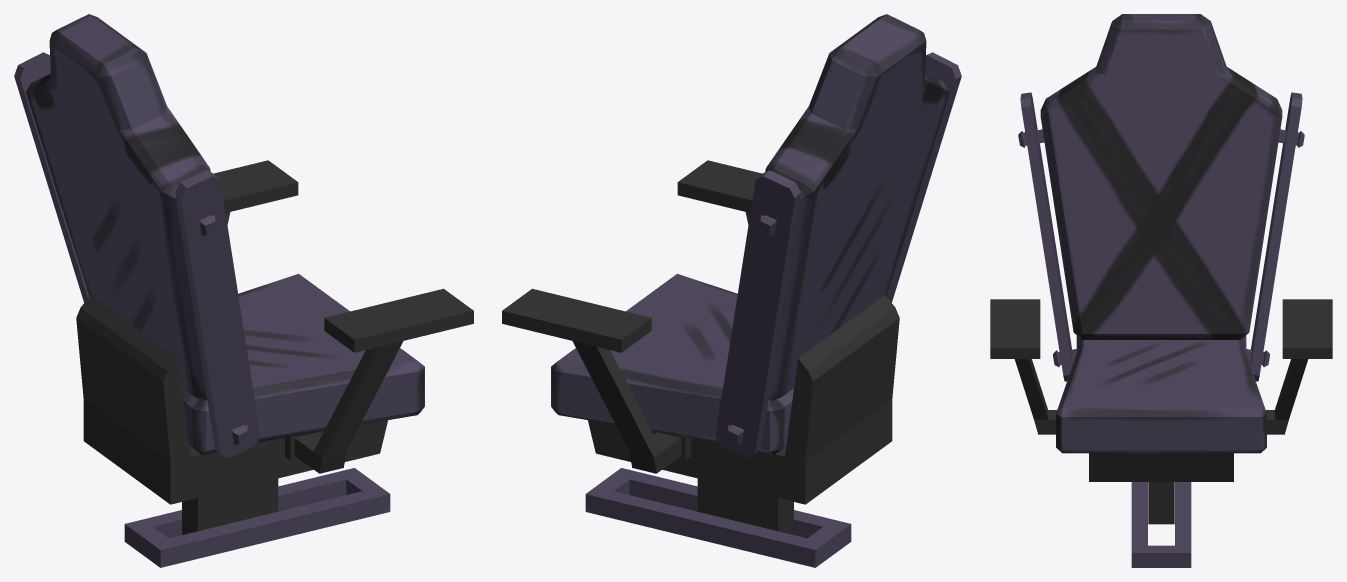
File: Station_Chair.fbx
3 views of the same model, side by side, from view 1: azimuth 30°, elevation 25°; view 2: azimuth 150°, elevation 25°; view 3: azimuth 270°, elevation 25° (orthographic). The views are drawn at different scales.
Parts seen in each view (by area): view 1: Chair, Rieles; view 2: Chair, Rieles; view 3: Chair, Rieles.
Part boxes in pixels (x1=…): Chair: x1=14, y1=14, x2=473, y2=534; Rieles: x1=124, y1=468, x2=390, y2=567; Chair: x1=502, y1=14, x2=961, y2=534; Rieles: x1=585, y1=468, x2=851, y2=567; Chair: x1=990, y1=14, x2=1332, y2=524; Rieles: x1=1131, y1=482, x2=1191, y2=567.
Size of the model in its own units: 35.85 by 60.93 by 42.75.
